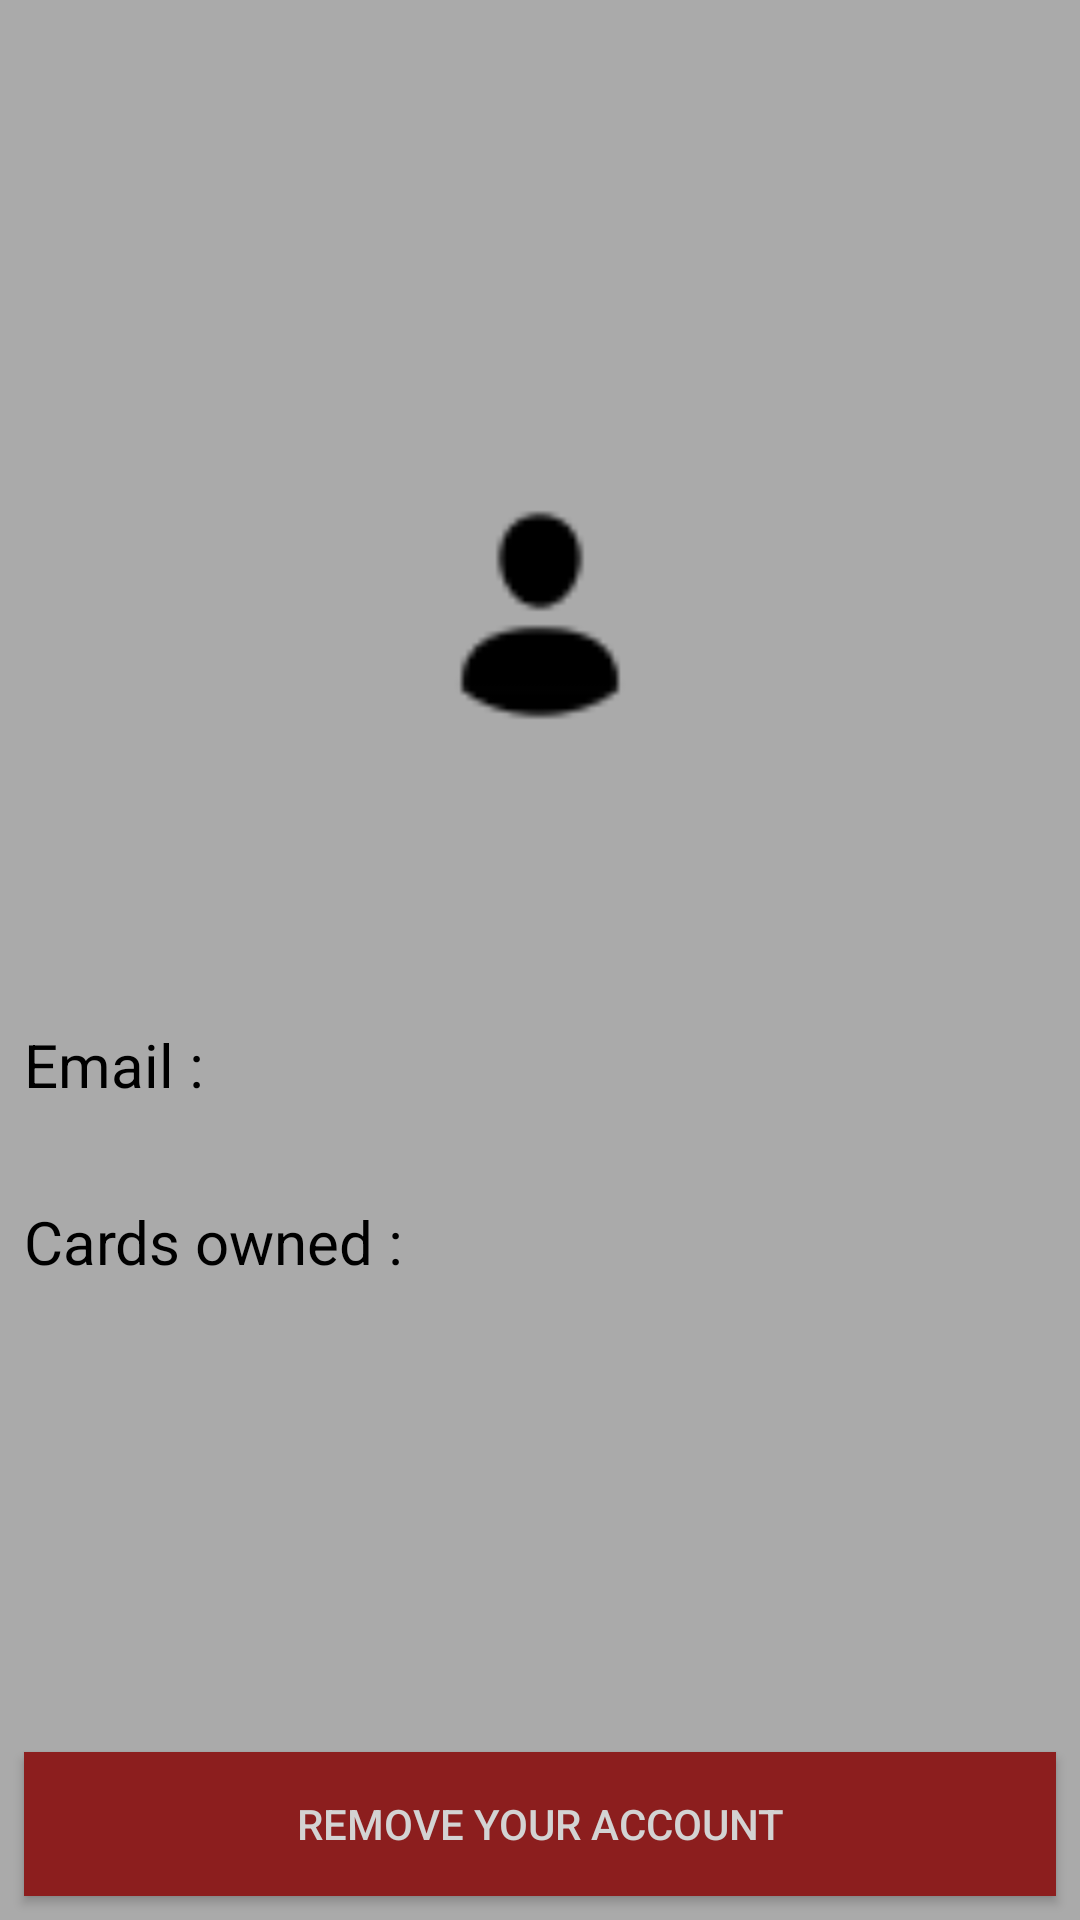

Named icons in this screenshot (1080 × 1920) and their bounding boxes, (x1, y1, x2, y2):
profil: (460, 511, 620, 719)
